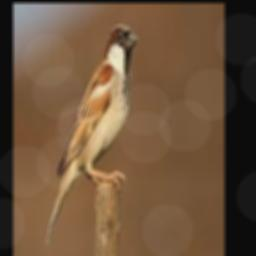Sparrow: (45, 24, 139, 247)
